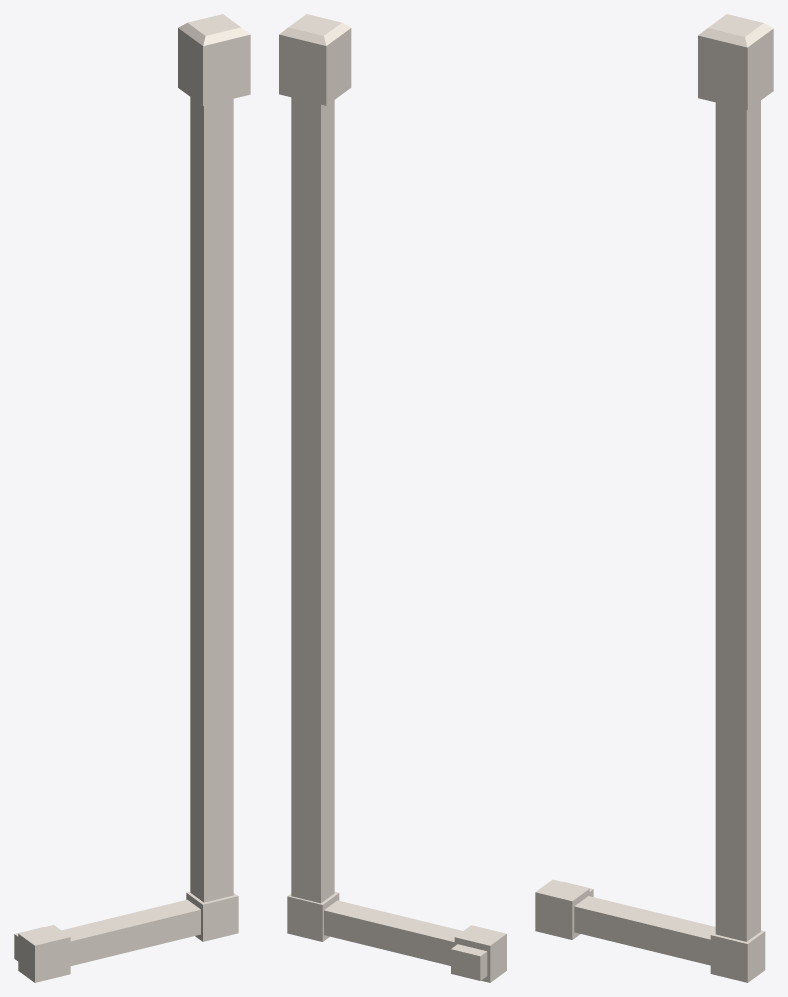
Rendered from SM_Fixture_AcCover_L_01.gltf.
The picture shows the model from 3 angles, left to right: view 1: azimuth 30°, elevation 25°; view 2: azimuth 150°, elevation 25°; view 3: azimuth 330°, elevation 25°; orthographic projection. The views are drawn at different scales.
Visible parts, largest first — view 1: SM_Fixture_AcCover_L_01; view 2: SM_Fixture_AcCover_L_01; view 3: SM_Fixture_AcCover_L_01.
Part boxes in pixels (x1,y1,x2,y2): SM_Fixture_AcCover_L_01: (14,14,250,982); SM_Fixture_AcCover_L_01: (279,14,506,982); SM_Fixture_AcCover_L_01: (535,14,773,982).
Size of the model in its own units: 0.53 by 2.2 by 0.13.
1 material, 1 textured.
